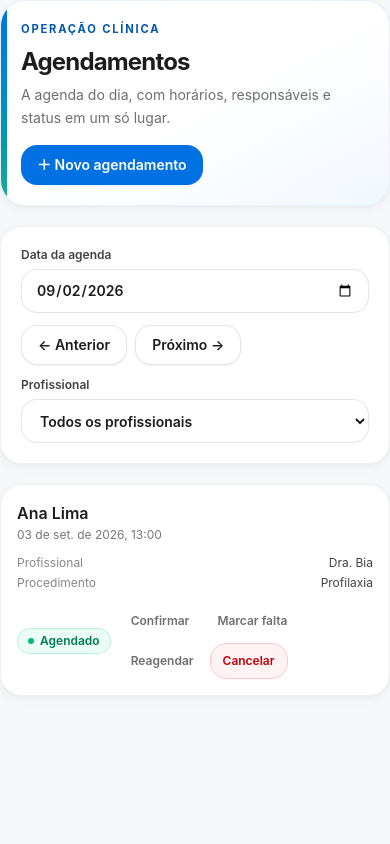
Scenario: páginas da base › permite confirmar um agendamento e informa o resultado
Click the button "Confirmar" at point(160, 621), box [119, 603, 201, 639]
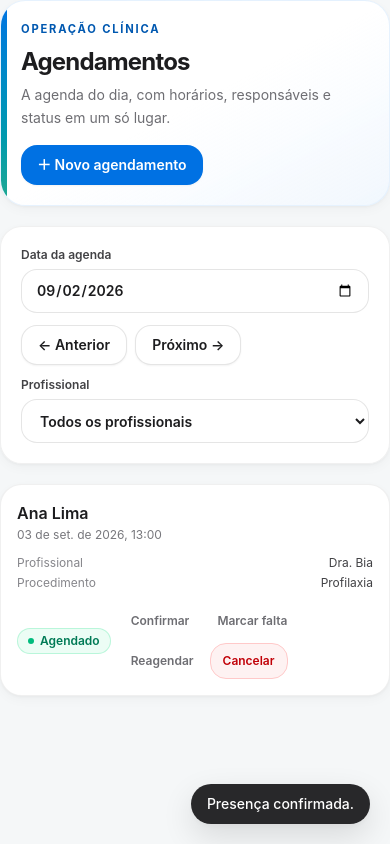
Now the text "Presença confirmada." is shown, box [191, 784, 370, 824]
